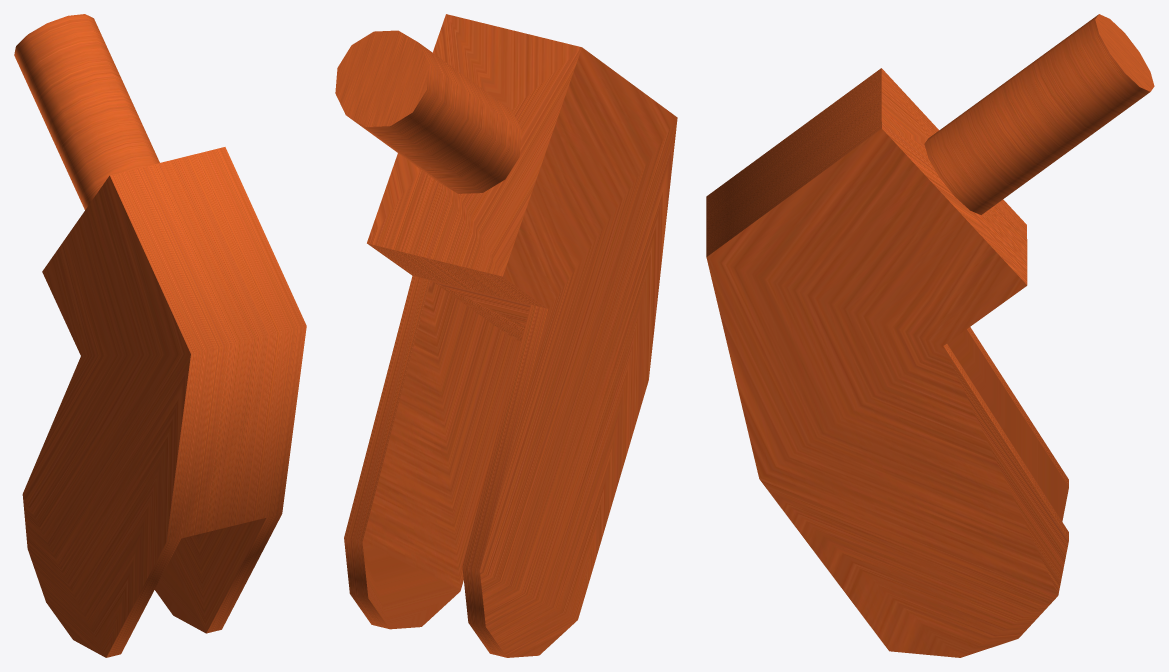
The model's file is ra_shortArm.obj.
The picture shows the model from 3 angles, left to right: view 1: azimuth 30°, elevation 25°; view 2: azimuth 150°, elevation 25°; view 3: azimuth 270°, elevation 25°; orthographic projection. The views are drawn at different scales.
Visible parts, largest first — view 1: shortArm; view 2: shortArm; view 3: shortArm.
Boxes of the visible parts, x1,y1,x2,y2 form: shortArm: (14, 14, 306, 657); shortArm: (335, 14, 677, 657); shortArm: (706, 14, 1154, 657).
Bounding box in the file's own units: 8.75 × 40.75 × 27.23.
Materials: 1 (1 with a texture image).
